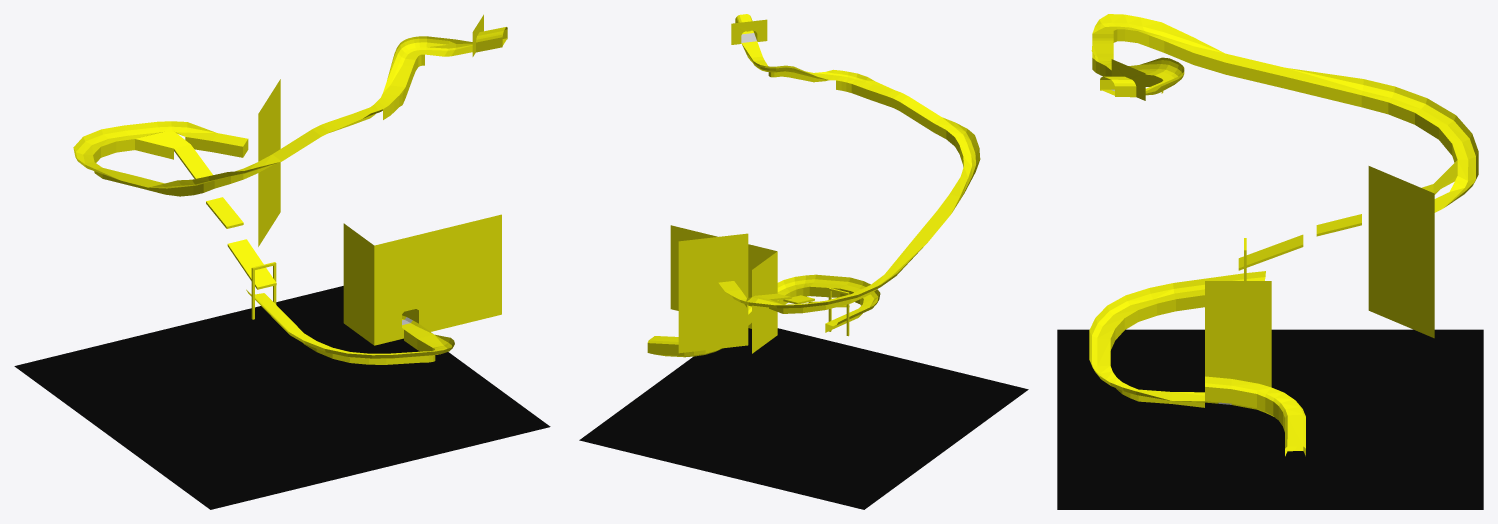
The model's file is ttm_segment7.0x2D5EC.collision.obj.
3 views of the same model, side by side, from view 1: azimuth 30°, elevation 25°; view 2: azimuth 150°, elevation 25°; view 3: azimuth 270°, elevation 25° (orthographic). The views are drawn at different scales.
Parts seen in each view (by area): view 1: ttm_segment7_2D5EC_deathfloor, ttm_segment7_2D5EC_normal; view 2: ttm_segment7_2D5EC_deathfloor, ttm_segment7_2D5EC_normal; view 3: ttm_segment7_2D5EC_deathfloor, ttm_segment7_2D5EC_normal.
Part boxes in pixels (x1,y1,x2,y2): ttm_segment7_2D5EC_deathfloor: (14,286,550,509); ttm_segment7_2D5EC_normal: (73,14,507,364); ttm_segment7_2D5EC_deathfloor: (579,328,1028,509); ttm_segment7_2D5EC_normal: (647,14,980,357); ttm_segment7_2D5EC_deathfloor: (1057,329,1483,509); ttm_segment7_2D5EC_normal: (1089,14,1478,456).
Bounding box in the file's own units: 16.9 × 17.5 × 16.
